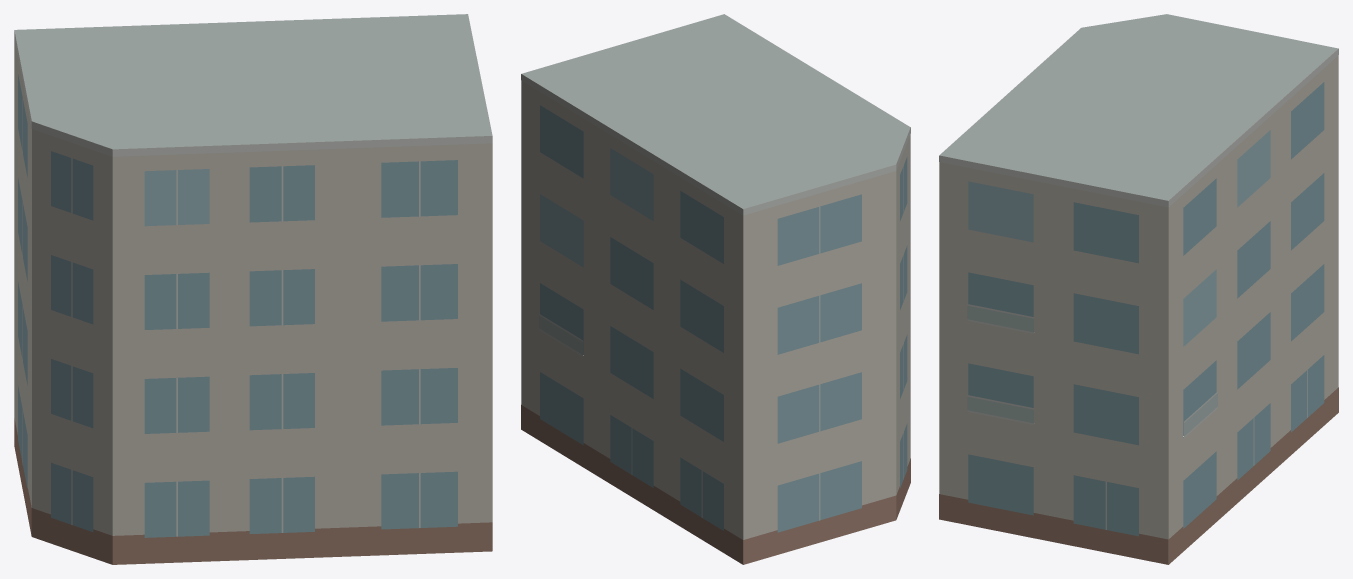
Rendered from survey-upis-32654447.glb.
3 views of the same model, side by side, from view 1: azimuth 30°, elevation 25°; view 2: azimuth 150°, elevation 25°; view 3: azimuth 270°, elevation 25° (orthographic). The views are drawn at different scales.
Visible parts, largest first — view 1: survey-upis-32654447.tmp; view 2: survey-upis-32654447.tmp; view 3: survey-upis-32654447.tmp.
Boxes of the visible parts, left/top/right/bottom form: survey-upis-32654447.tmp: left=14, top=14, right=492, bottom=564; survey-upis-32654447.tmp: left=521, top=14, right=910, bottom=564; survey-upis-32654447.tmp: left=939, top=14, right=1338, bottom=564.
Size of the model in its own units: 14.98 by 13.6 by 13.54.
